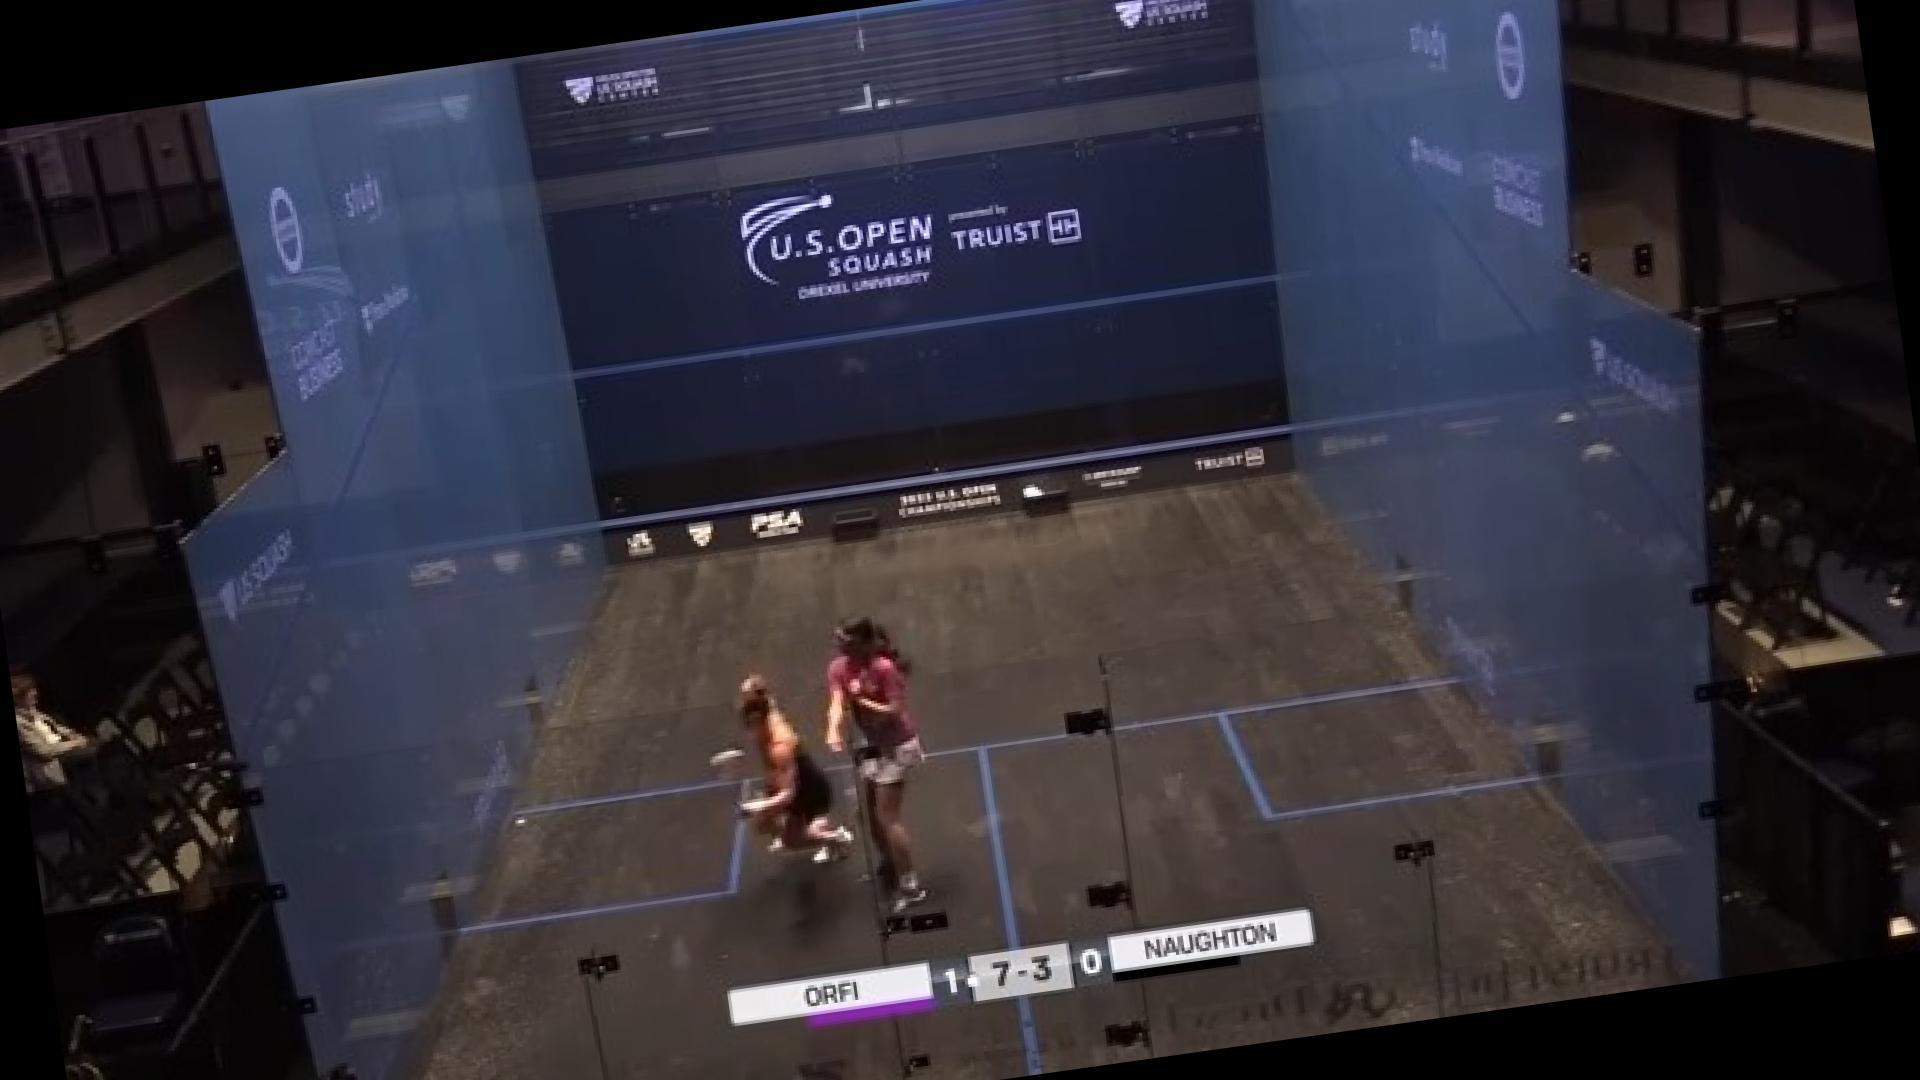Squash-Ball: (508, 804, 533, 839)
